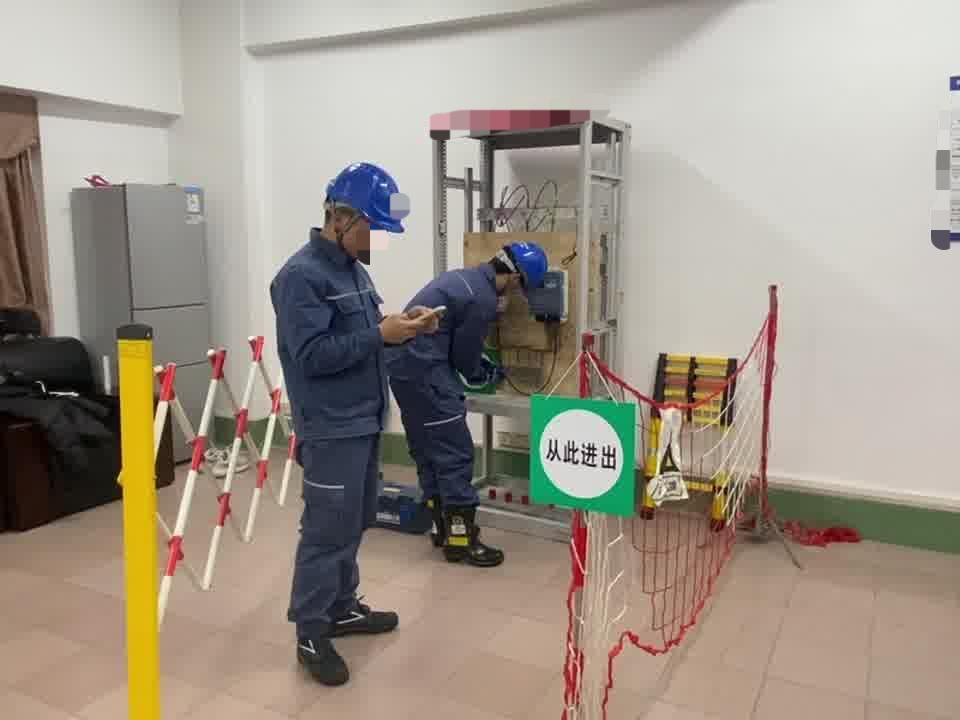halt: (322, 161, 408, 253), (495, 243, 554, 304)
inear: (332, 208, 361, 243)
